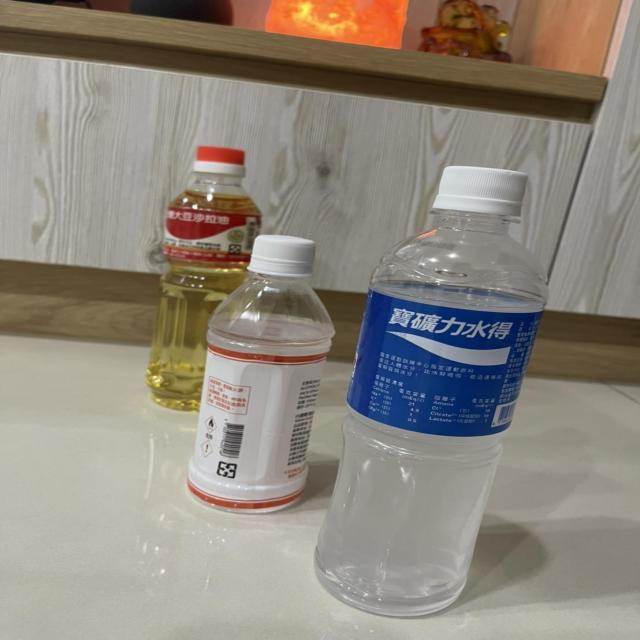bottle: (307, 160, 558, 624), (191, 224, 338, 511), (134, 142, 271, 418)
